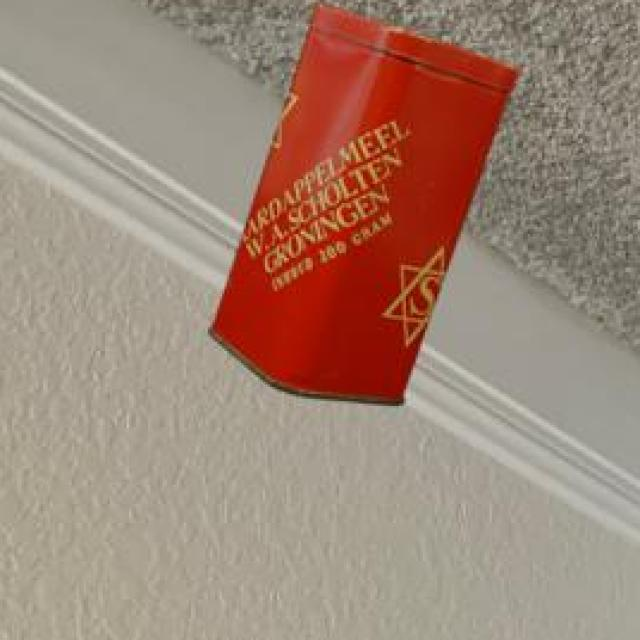logam: (214, 6, 522, 410)
